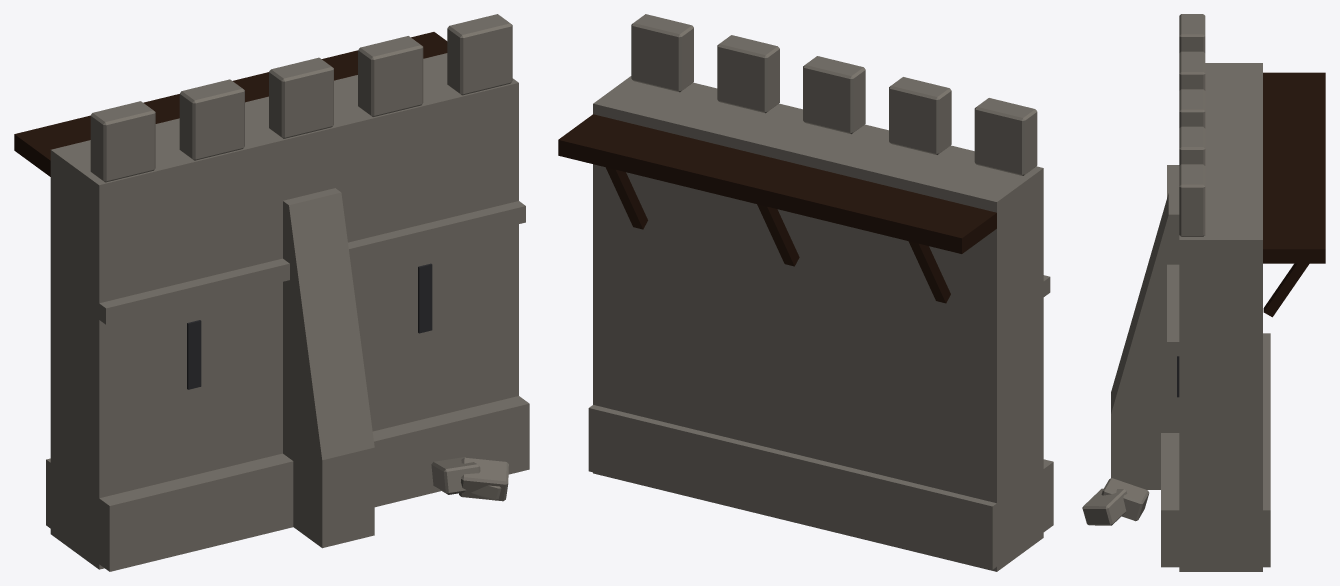
Rendered from muro_ciudadela.fbx.
The picture shows the model from 3 angles, left to right: view 1: azimuth 30°, elevation 25°; view 2: azimuth 150°, elevation 25°; view 3: azimuth 270°, elevation 25°; orthographic projection. The views are drawn at different scales.
Parts seen in each view (by area): view 1: muro_ciudadela; view 2: muro_ciudadela; view 3: muro_ciudadela.
Boxes of the visible parts, x1,y1,x2,y2 form: muro_ciudadela: [14, 14, 529, 571]; muro_ciudadela: [558, 14, 1053, 571]; muro_ciudadela: [1082, 14, 1325, 571].
Size of the model in its own units: 8 by 8.1 by 4.65.
